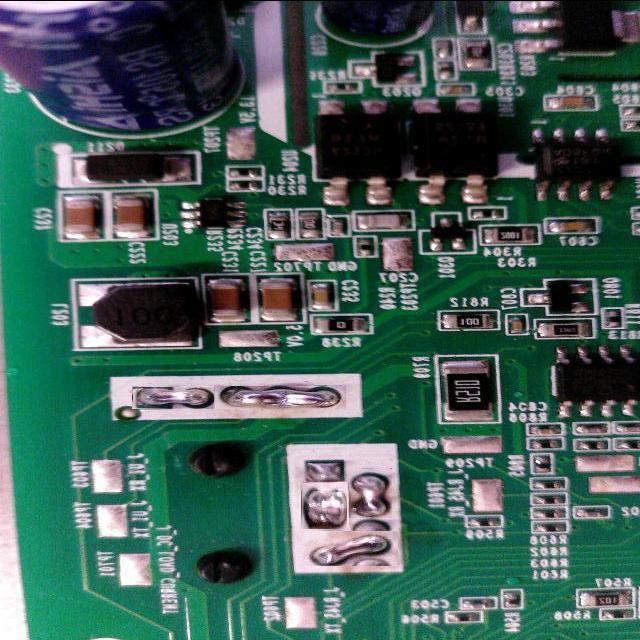Short_circuit: (303, 532, 398, 568), (215, 386, 346, 409), (348, 468, 392, 518), (302, 482, 348, 529), (132, 386, 214, 409)
